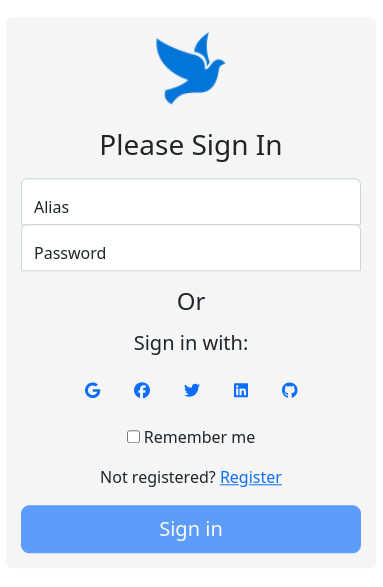
Test: Login Component › disables the sign in button if either field is cleared.
Type "name" into the field labelled "Alias" at {"x": 191, "y": 201}, box [21,178,361,225]
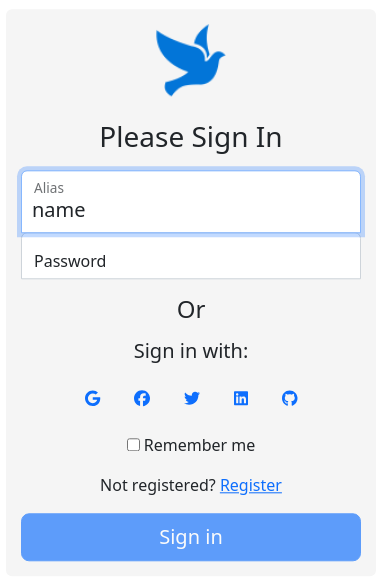
Type "pass" into the password field labelled "Password" at {"x": 191, "y": 255}, box [21,232,361,279]
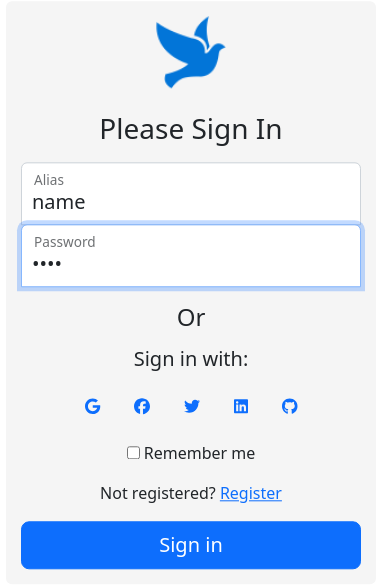
Expected: the button "Sign in" is enabled, [21,522,361,570]
Clear the field labelled "Alias" at {"x": 191, "y": 193}, box [21,162,361,225]
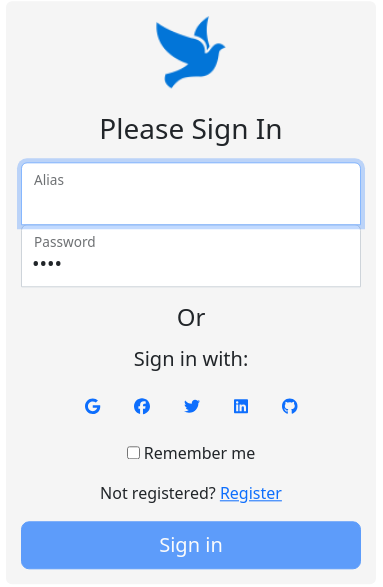
Expected: the button "Sign in" is disabled, [21,522,361,570]
Type "name2" into the field labelled "Alias" at {"x": 191, "y": 193}, box [21,162,361,225]
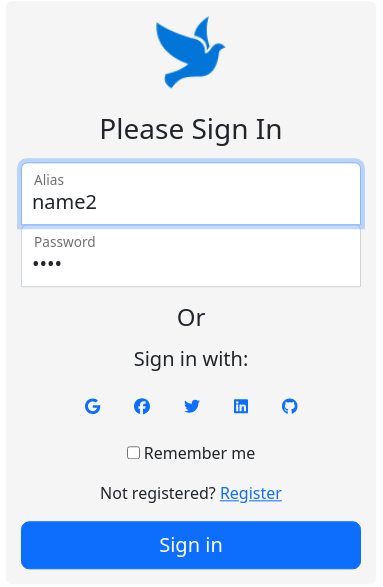
Expected: the button "Sign in" is enabled, [21,522,361,570]
Clear the password field labelled "Password" at {"x": 191, "y": 255}, box [21,224,361,287]
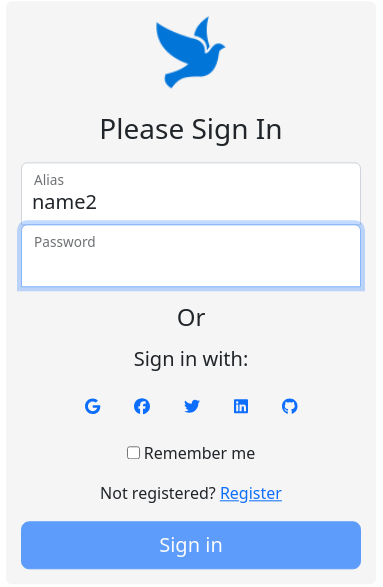
Expected: the button "Sign in" is disabled, [21,522,361,570]
